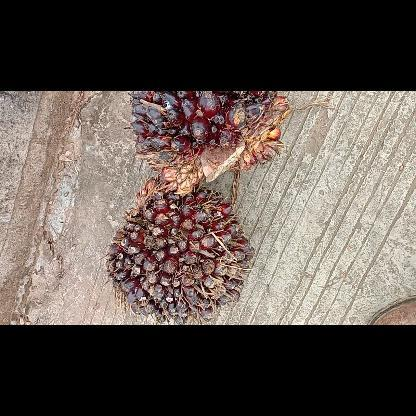TBS mentah: (102, 176, 257, 324), (127, 91, 295, 201)
